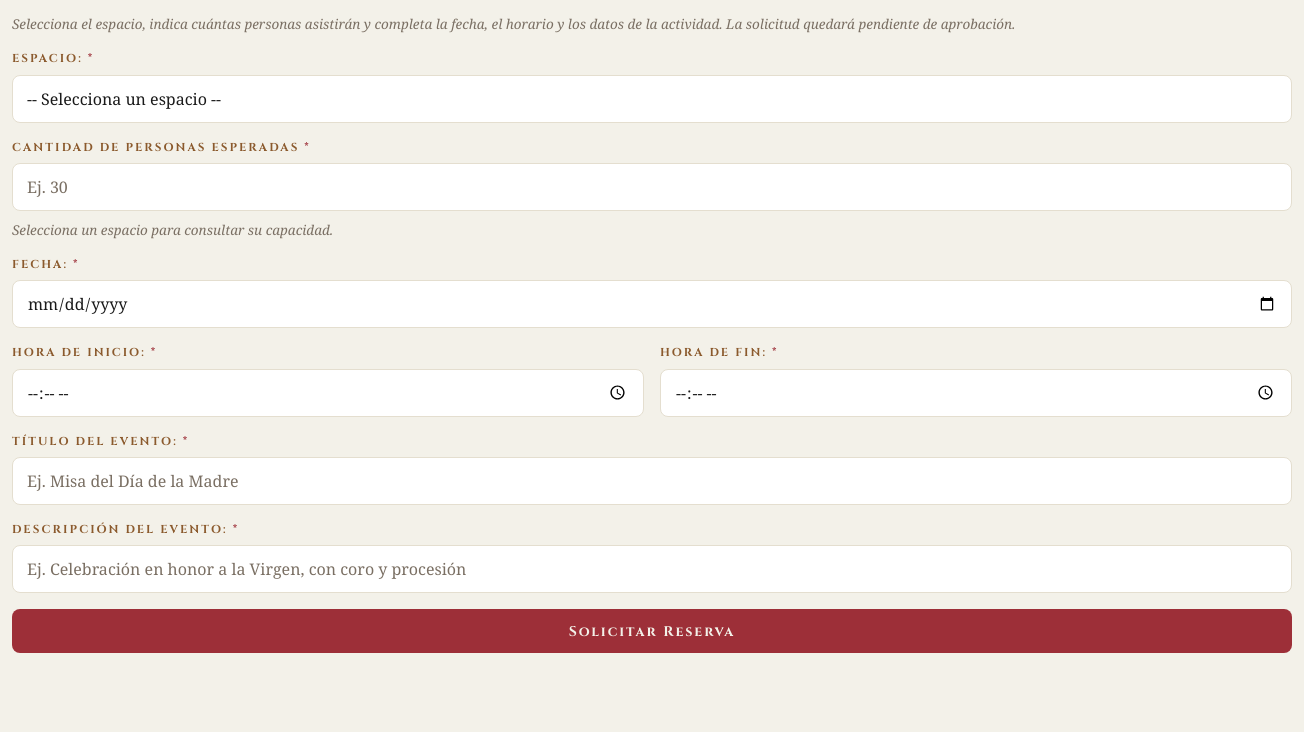
Test: CrearReservaForm › no ofrece publicar a un coordinador ni envía el campo restringido
The width and height of the screenshot is (1304, 732).
Select "Salón Parroquial (cap. 80)" in the dropdown labelled "Espacio:". click: (652, 98)
box: 12,74 -> 1292,122
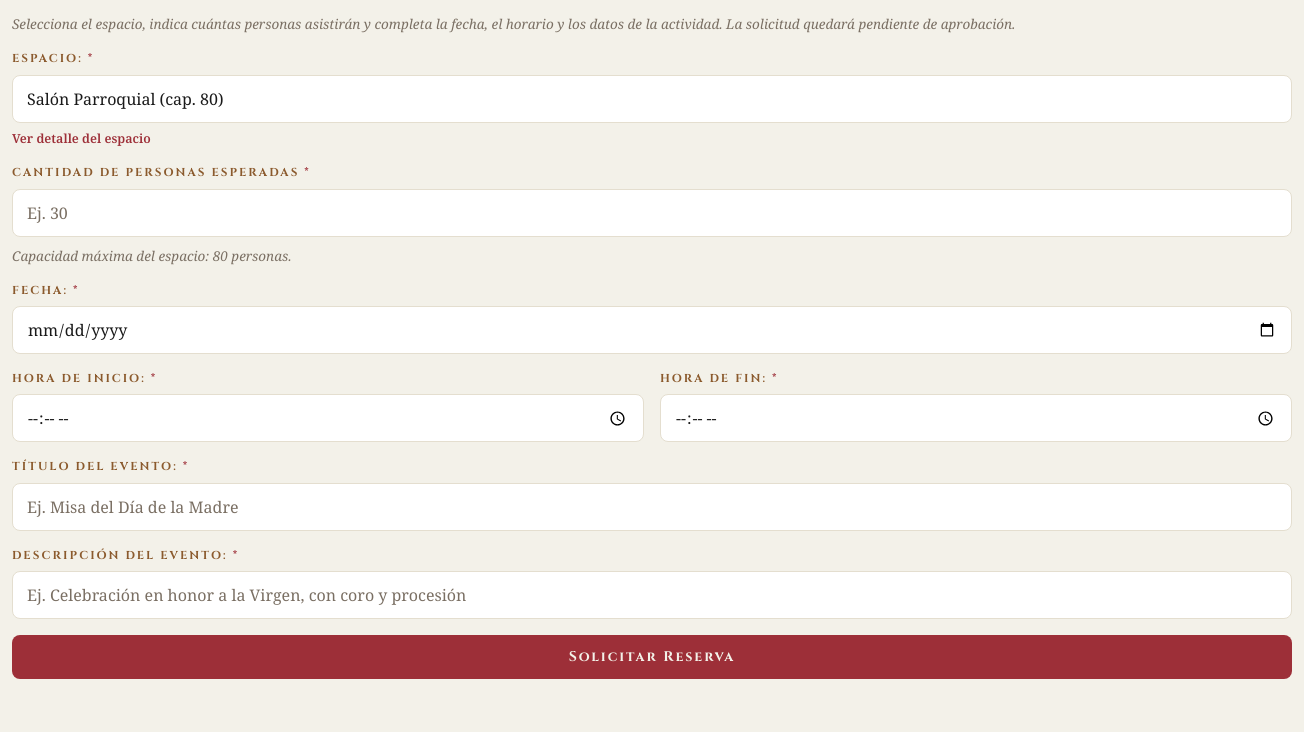
Type "50" into the number field labelled "Cantidad de personas esperadas". click: (652, 212)
box: 12,188 -> 1292,236
Type "2099-10-12" into the date field labelled "Fecha:". click: (652, 330)
box: 12,306 -> 1292,354
Type "18:00" into the time field labelled "Hora de Inicio:". click: (328, 418)
box: 12,394 -> 644,442
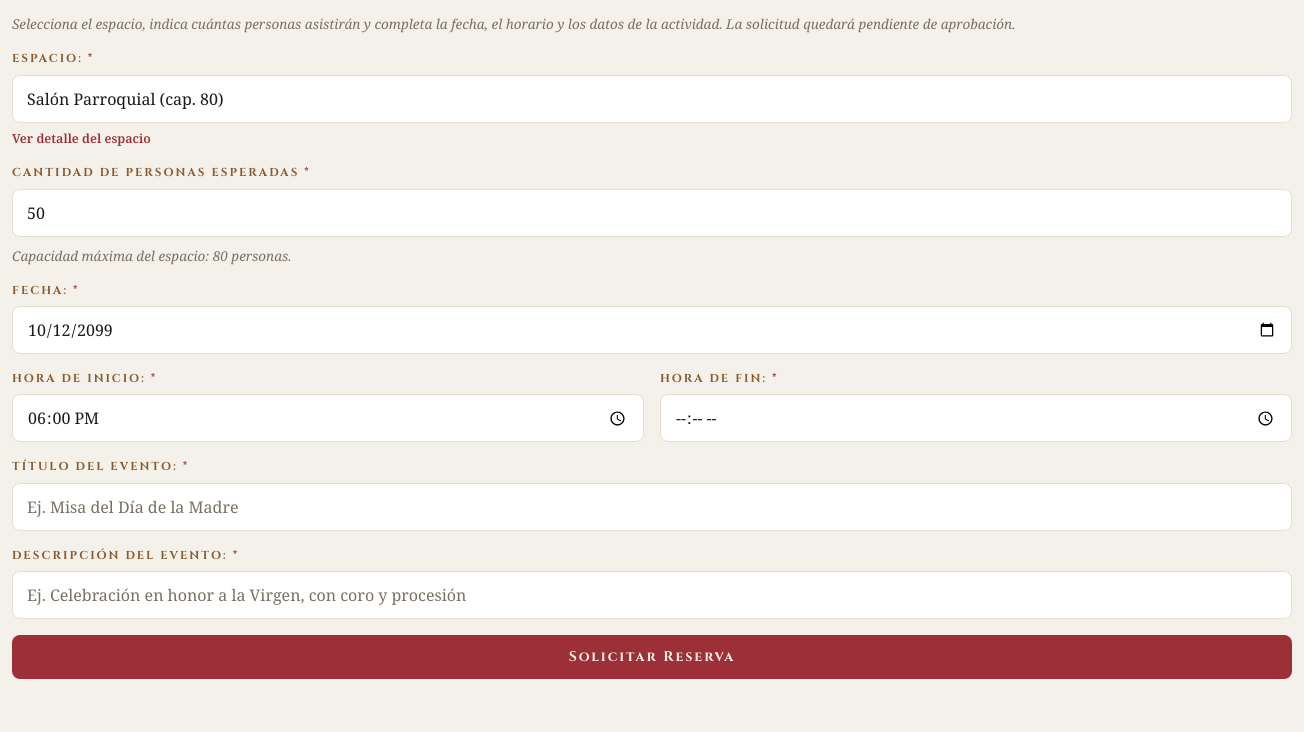
Type "20:00" into the time field labelled "Hora de Fin:". click: (976, 418)
box: 660,394 -> 1292,442
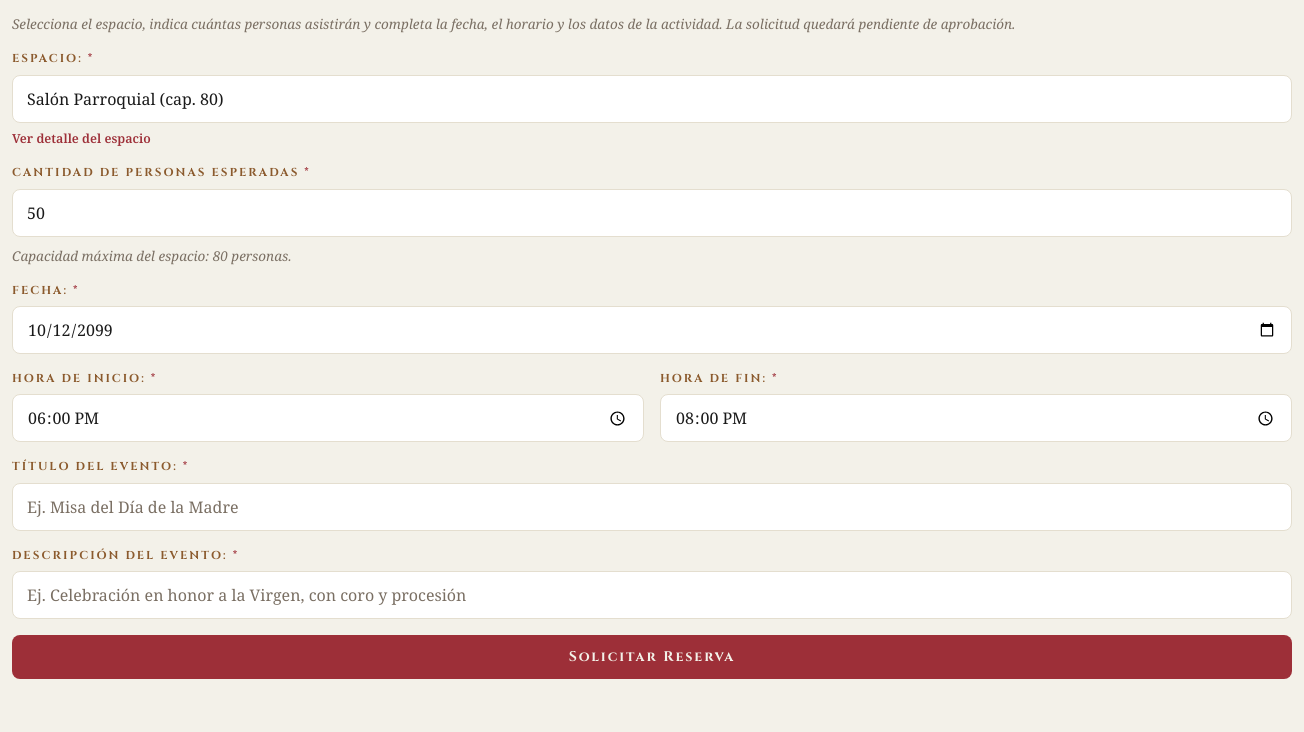
Type "Ensayo del coro" into the field labelled "Título del Evento:". click: (652, 506)
box: 12,482 -> 1292,530
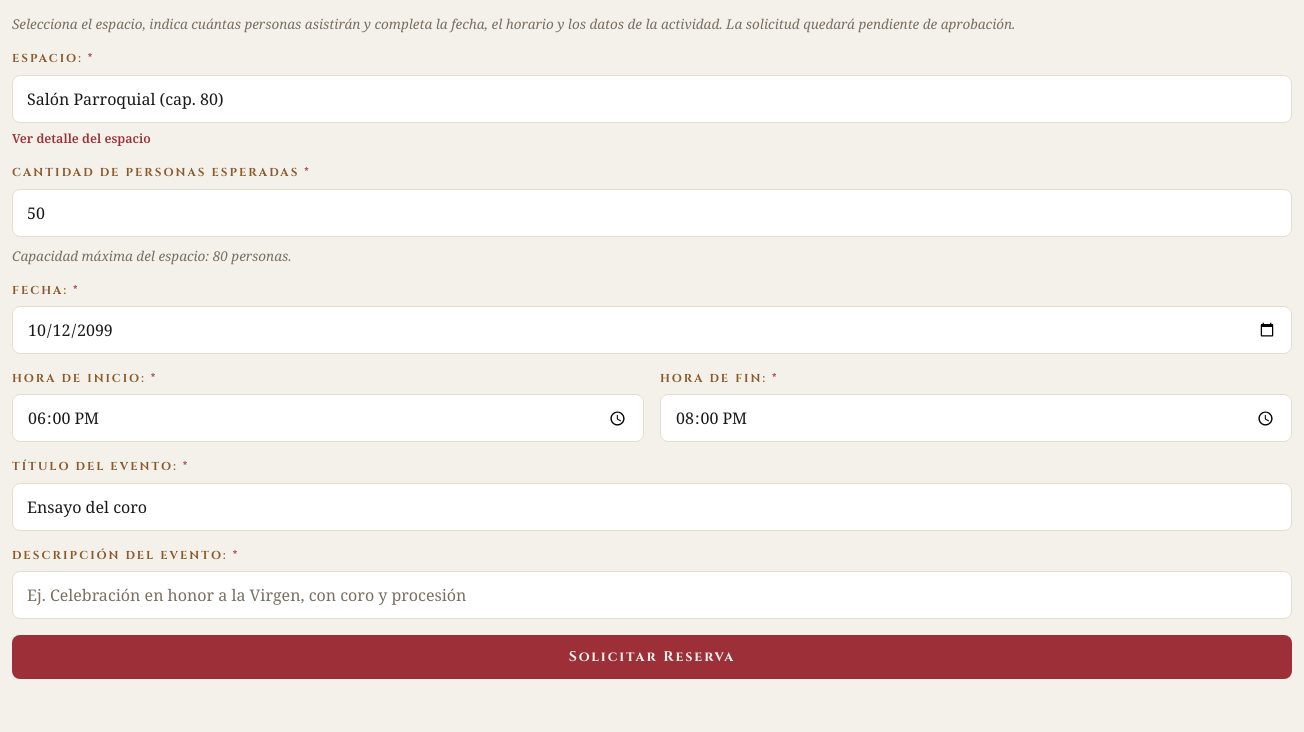
Type "Ensayo semanal" into the field labelled "Descripción del Evento:". click: (652, 595)
box: 12,571 -> 1292,619
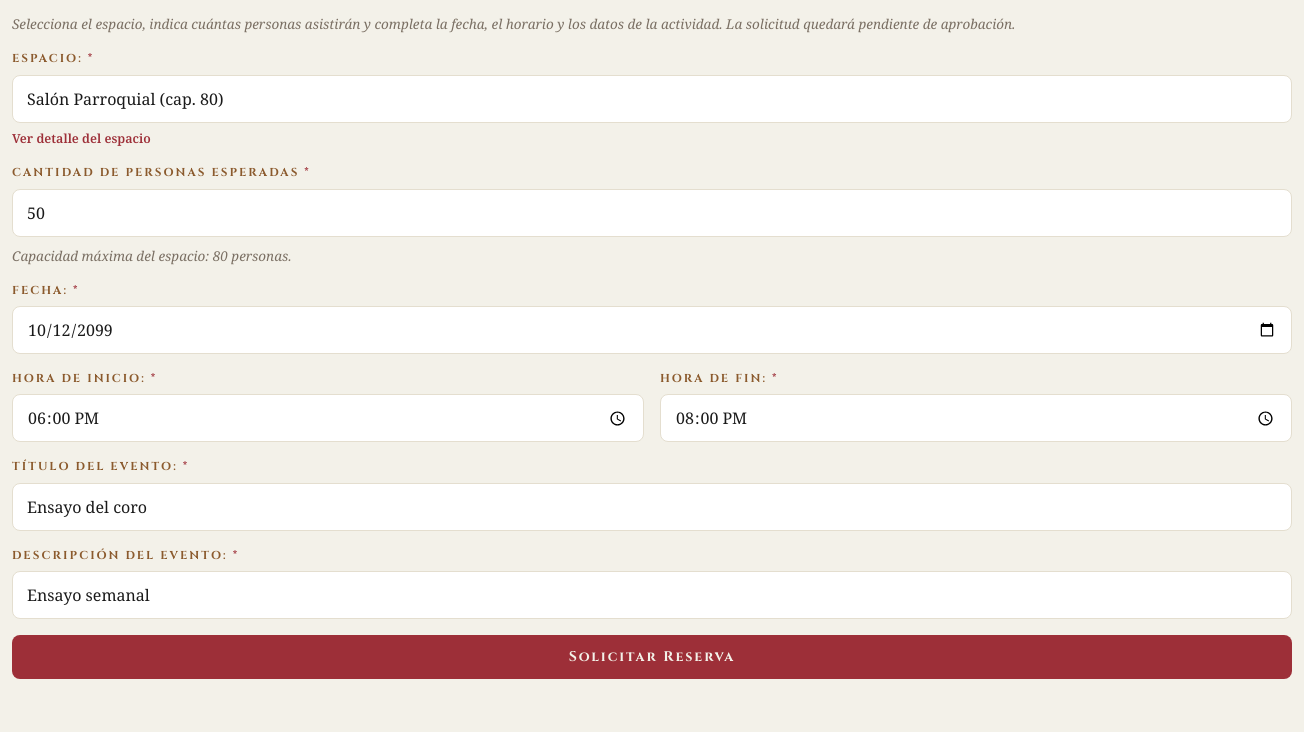
Click the button "Solicitar Reserva". click: (652, 657)
box: 12,635 -> 1292,679
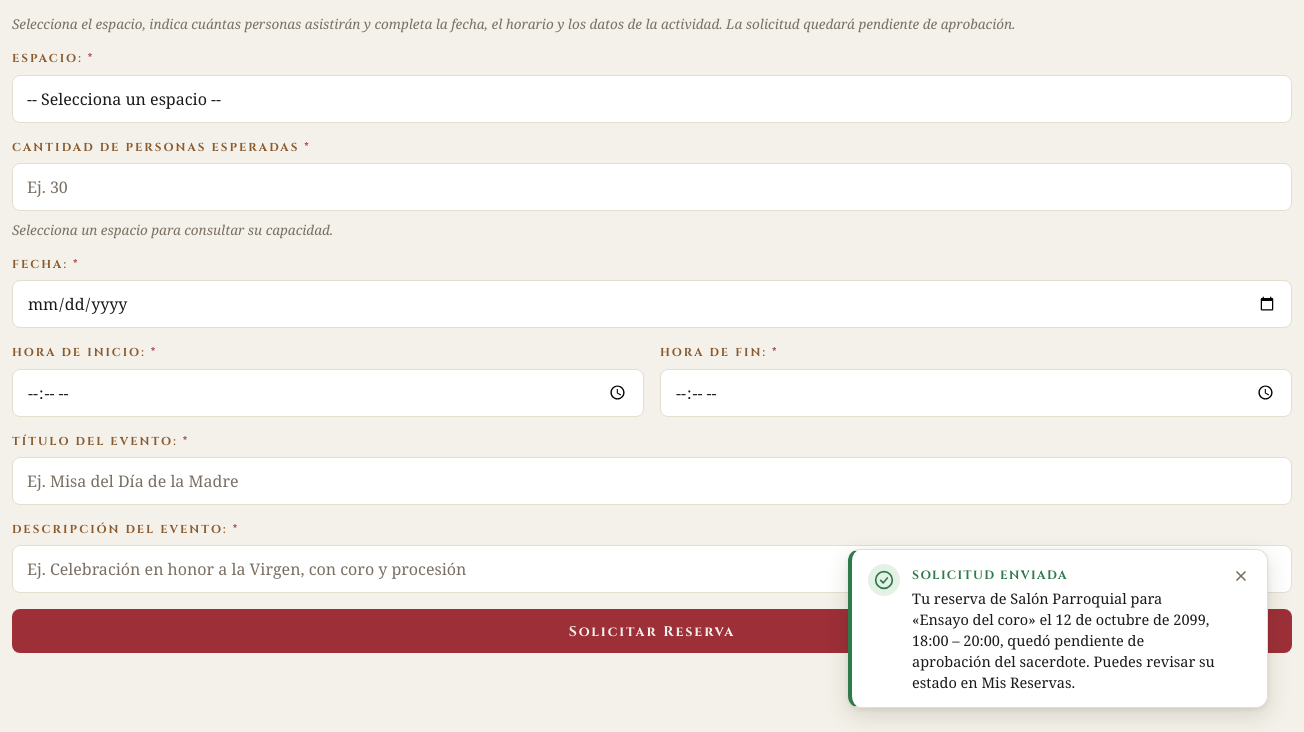
Expected: the message is shown, 848,549 -> 1268,708
